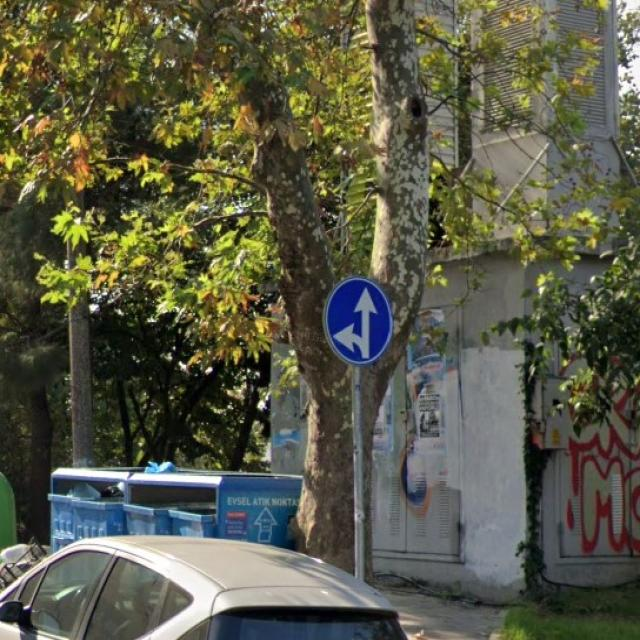ilerisol: (324, 278, 392, 365)
